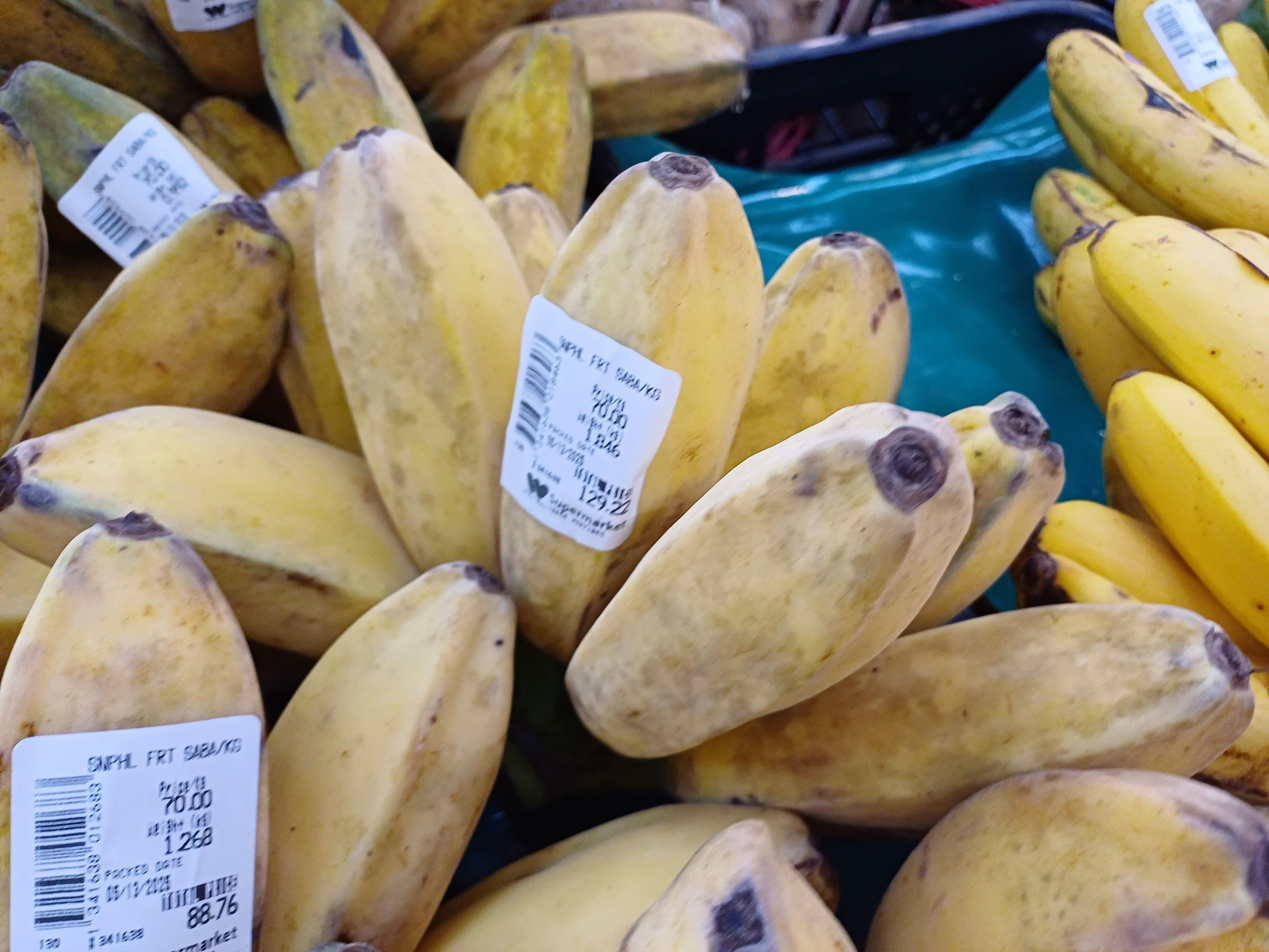ripe: (0, 126, 1256, 831), (0, 513, 845, 952), (616, 763, 1268, 952), (0, 110, 302, 461)
